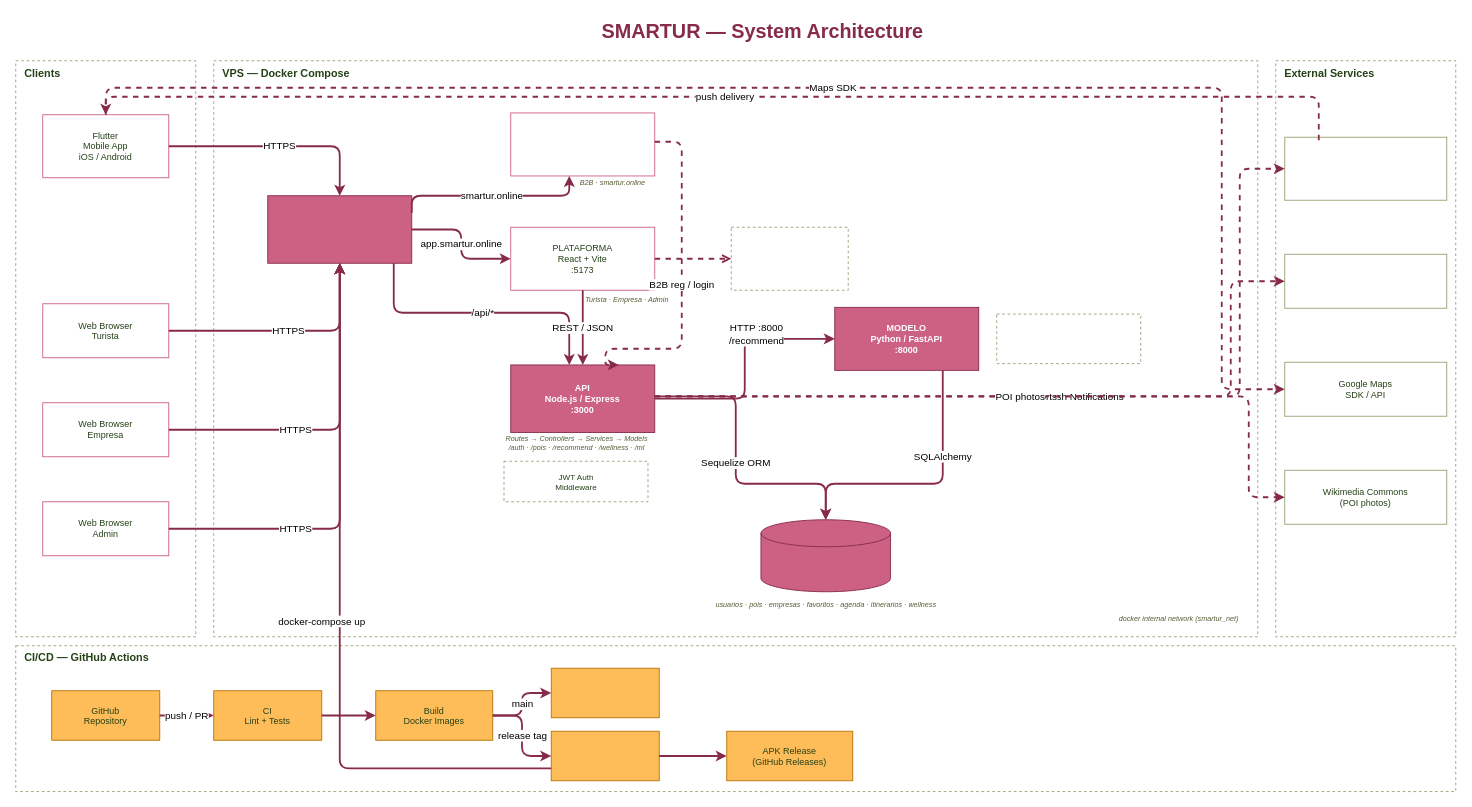
The diagram is 1472 pixels wide and 807 high, and some of its shapes have lost their labels. Each missing label, with the centre of its shape:
Deploy VPS (SSH): (x=604, y=692)
Firebase Cloud Messaging (FCM): (x=1365, y=168)
KNN + Random Forest Wellness Classifier RestMex Enricher · Benefit Scoring: (x=1068, y=338)
LANDING Astro + React :5174: (x=582, y=144)
Mobile APK Build: (x=604, y=755)
Nginx Reverse Proxy :80 / :443 (TLS): (x=339, y=229)
PostgreSQL :5432: (x=825, y=555)
role_id routing 1 → Admin 2 → Empresa 3 → Turista: (x=789, y=258)
Sentry Error Monitoring: (x=1365, y=280)
